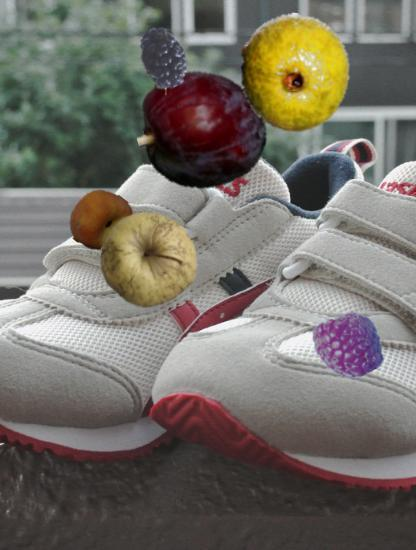Apple: (100, 211, 199, 310)
Guava: (235, 13, 355, 133)
Mulberry: (134, 21, 206, 93)
Peach: (70, 190, 134, 254)
Plum: (137, 65, 267, 195)
Raspberry: (315, 312, 383, 380)
